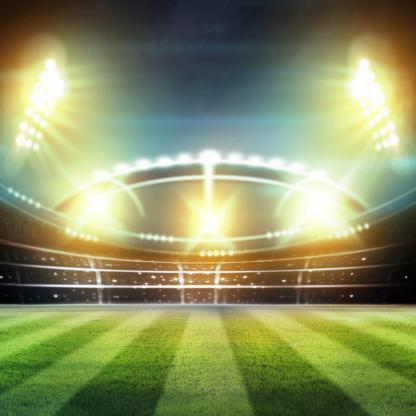other: (1, 49, 80, 164), (334, 53, 401, 148), (185, 189, 241, 252), (290, 179, 349, 237), (80, 172, 126, 234)
